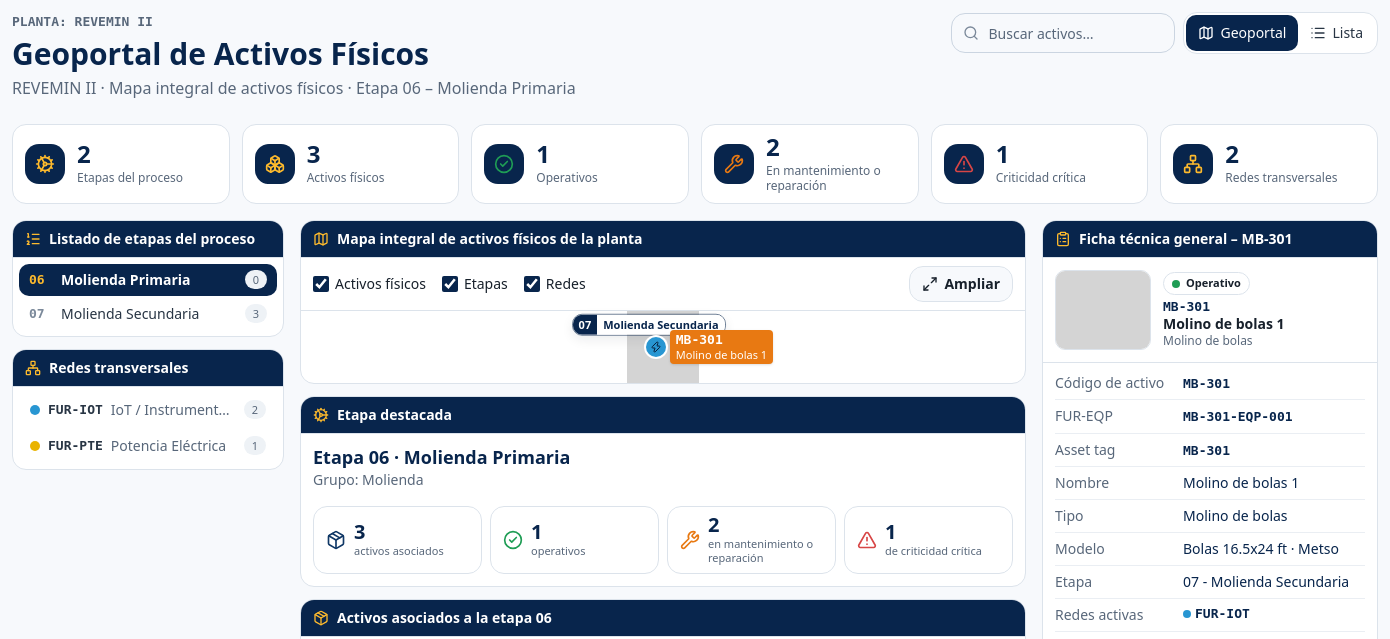
Geoportal de Activos Físicos › la etapa de la URL manda y elegir otra cambia la consulta y la ficha de la etapa
This screenshot has width=1390, height=639.
Expected: the heading "Etapa 06 · Molienda Primaria" is shown, [313,446,570,468]
Click the button "07 Molienda Secundaria 3": (148,314) [19,298,277,330]
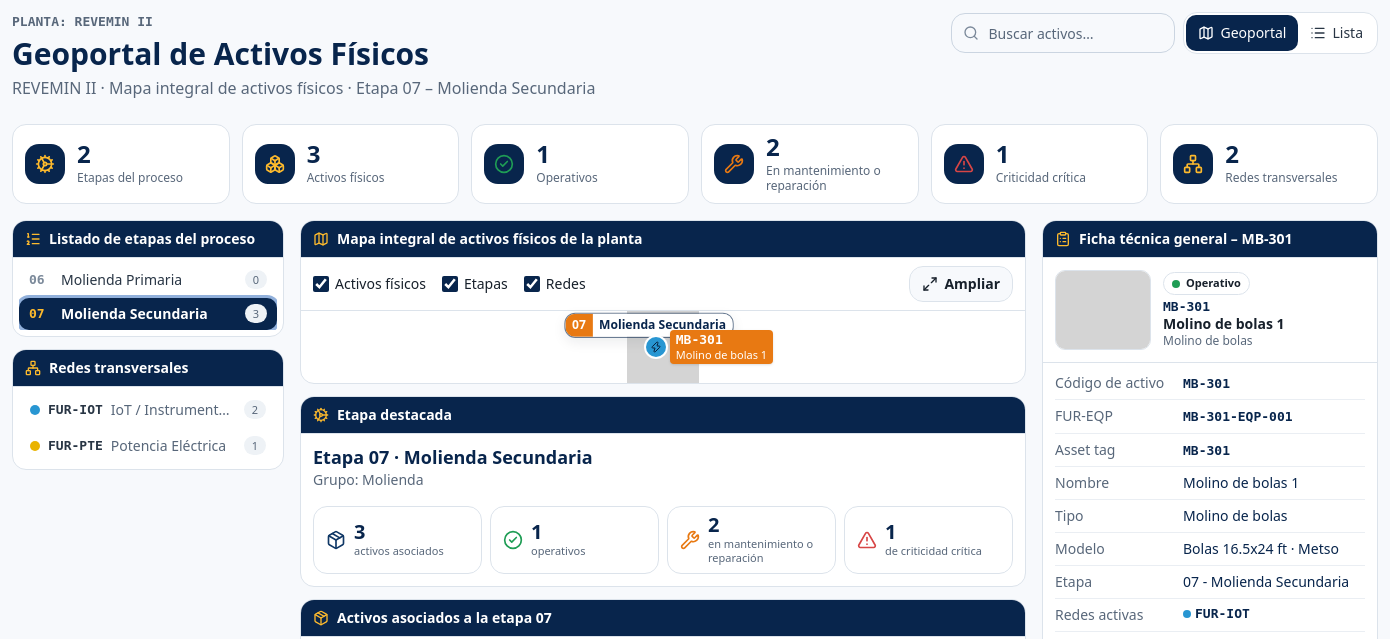
Expected: the heading "Etapa 07 · Molienda Secundaria" is shown, [313,446,593,468]
